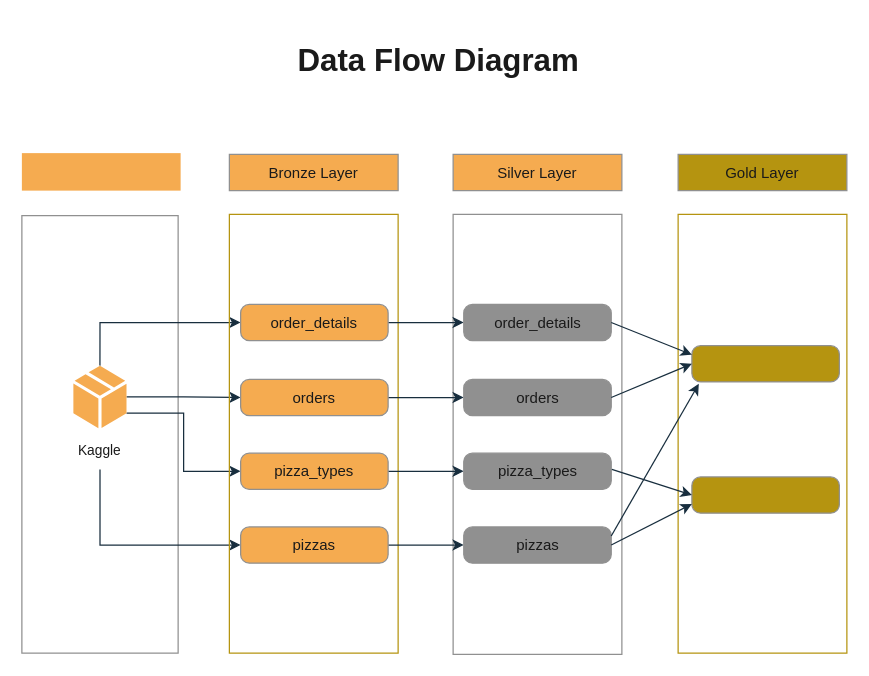
This 869x676 diagram has some shape labels left out. Here are the shapes that lost their labels. From the top down, the centre of each, then its label:
At (x=100, y=171): "Sources".
At (x=765, y=363): "fact_sales".
At (x=765, y=494): "dim_pizzas".
